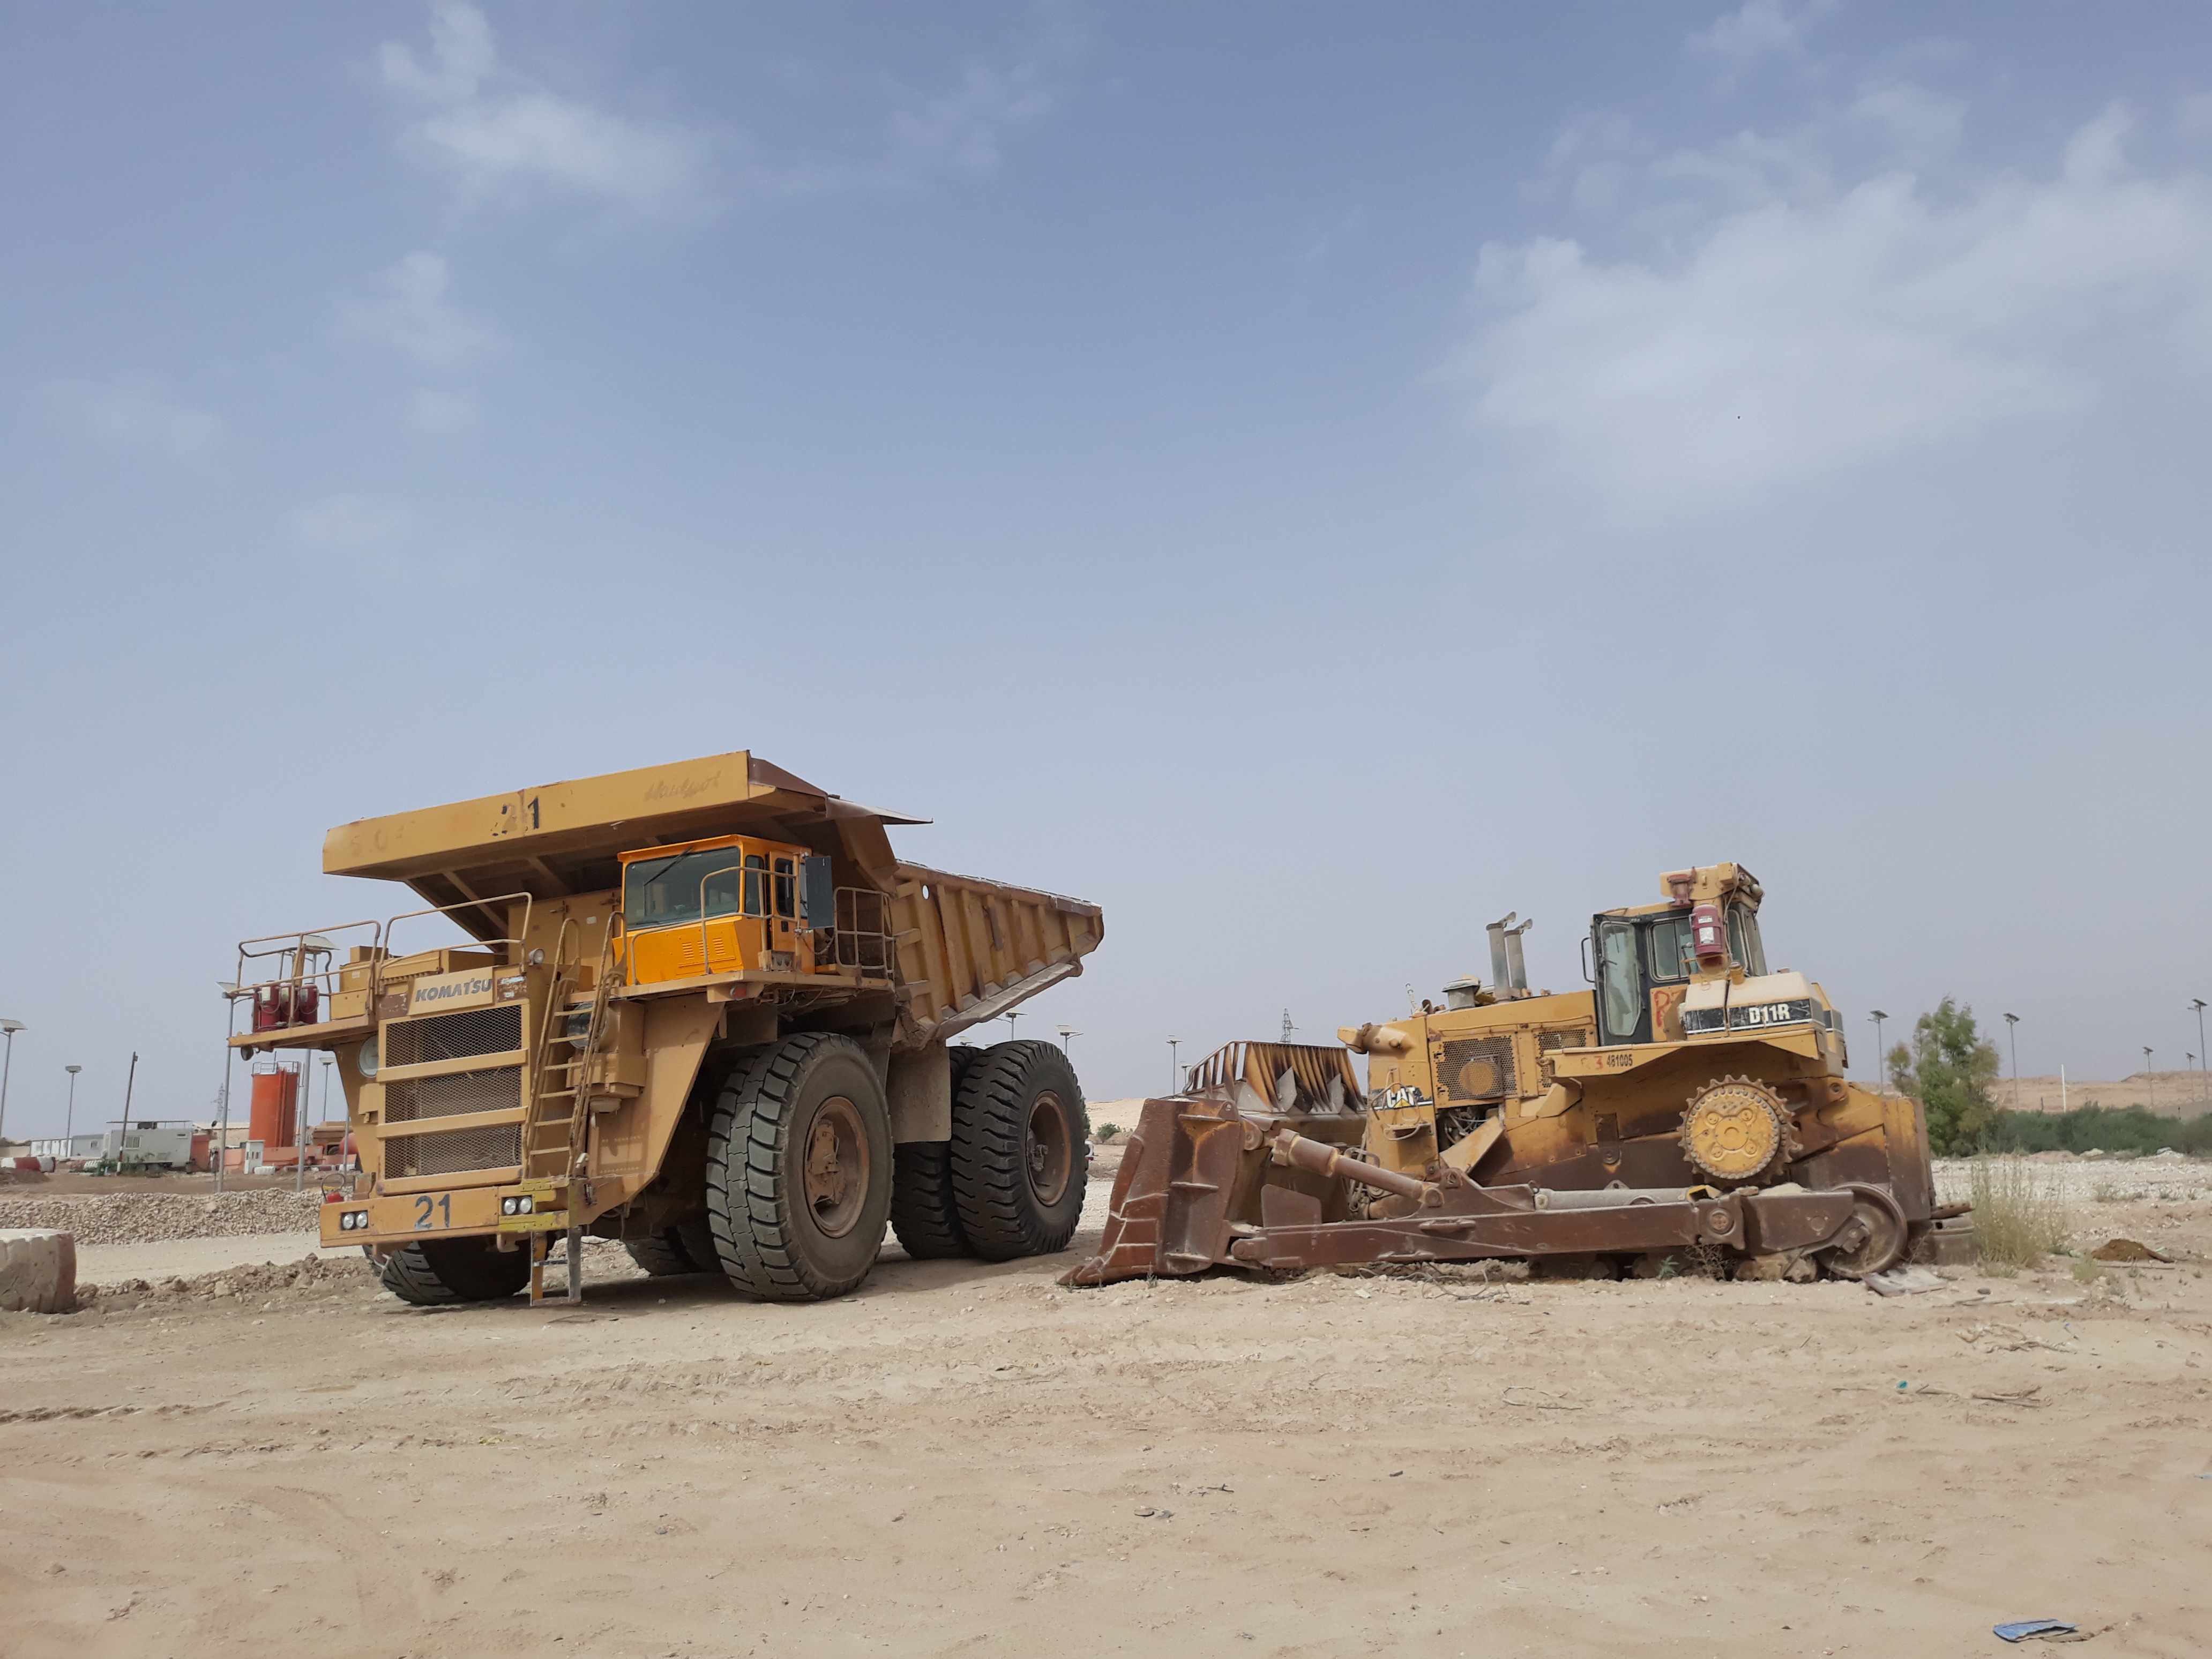bulldozer: (1089, 854, 1970, 1317)
camion: (240, 734, 1118, 1321)
